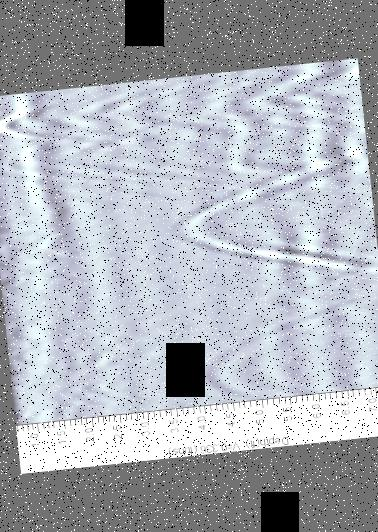Hyperbola: (140, 161, 319, 306), (168, 304, 328, 410), (0, 127, 68, 200), (0, 89, 66, 155), (8, 340, 57, 372), (6, 312, 51, 343)
